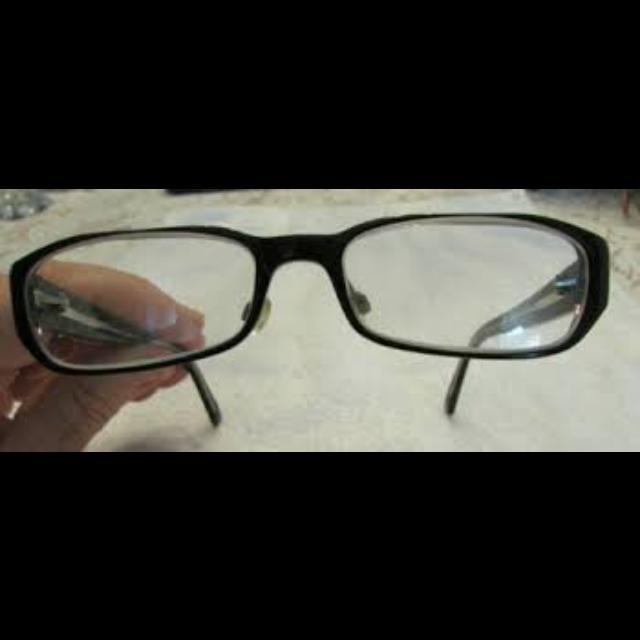glasses: (11, 210, 612, 426)
